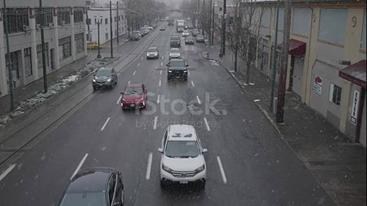car: (157, 121, 212, 193), (55, 160, 128, 206), (116, 81, 154, 112), (89, 64, 117, 91), (165, 57, 191, 83), (143, 45, 161, 61)
